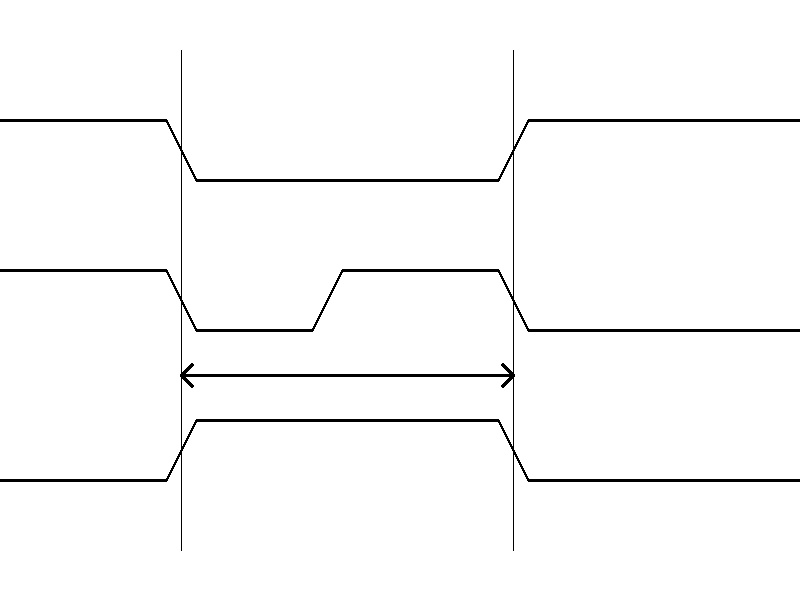double_arrow: (181, 360, 513, 390)
